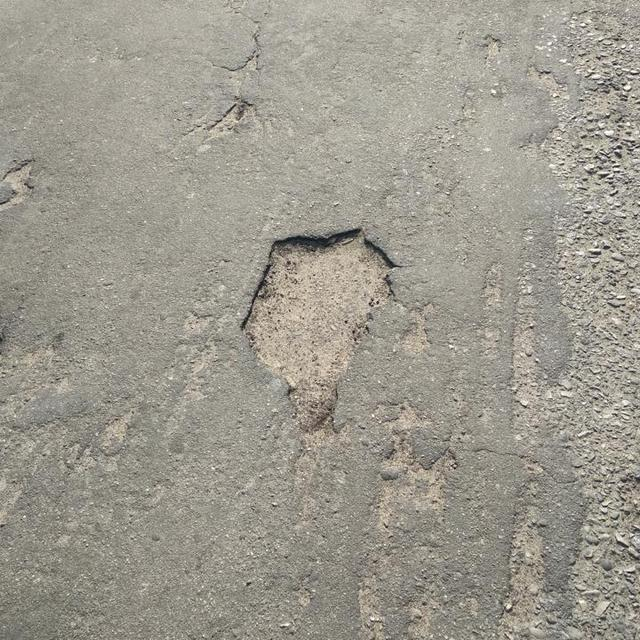Pothole: (236, 223, 404, 428), (0, 158, 38, 212), (206, 99, 249, 139)
